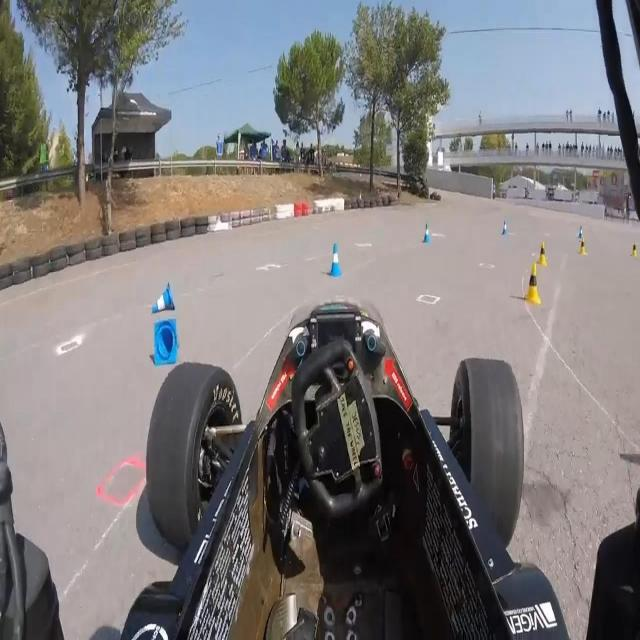blue_cone: (150, 316, 182, 368), (150, 284, 177, 316), (330, 243, 343, 278), (422, 223, 432, 245), (502, 220, 509, 238), (577, 227, 585, 240)
yellow_cone: (525, 268, 543, 306), (534, 241, 550, 273), (579, 236, 588, 258), (629, 238, 638, 258)
